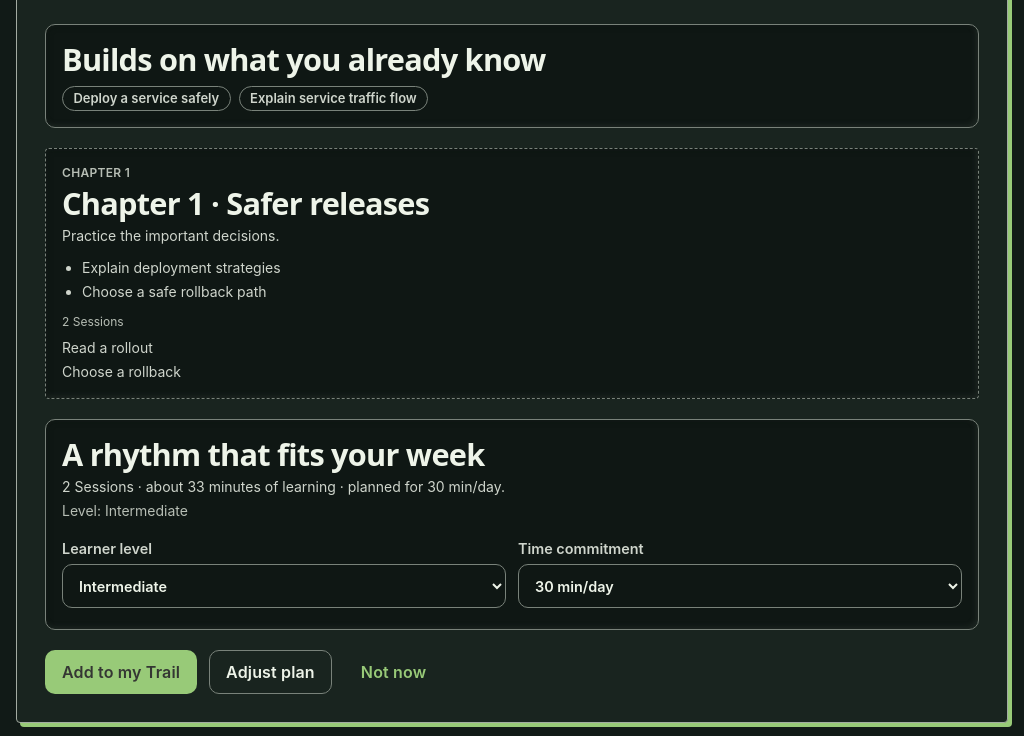
it: ContinuationFlow › requires regeneration when the learner changes the plan pace
(page scrolled)
Select "Advanced" in the dropdown labelled "Learner level" at (284, 586), box [62, 564, 506, 608]
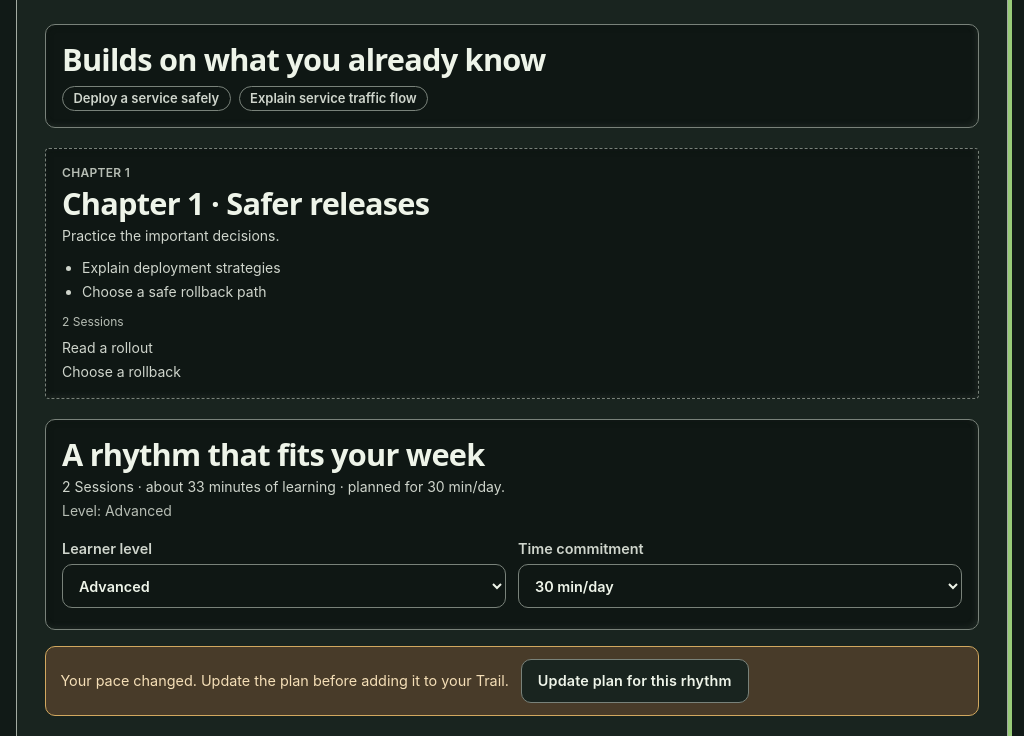
Expected: the message shows "Your pace changed", [60, 672, 509, 689]
Click the button "Update plan for this rhythm" at (635, 681), box [521, 659, 749, 703]
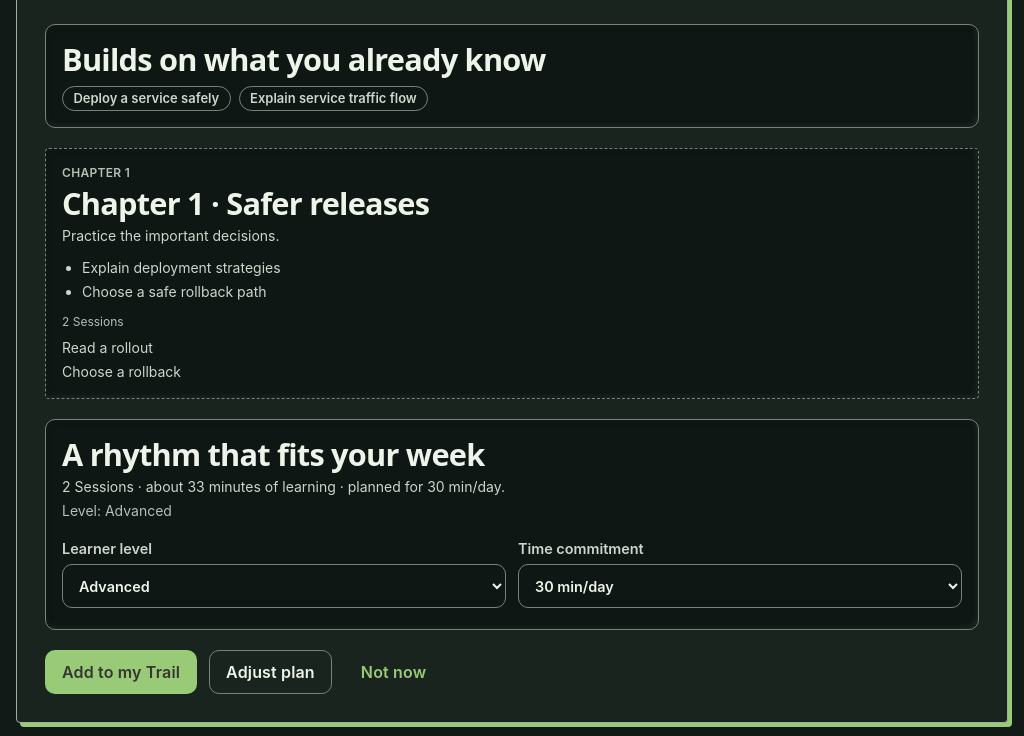
Expected: the button "Add to my Trail" is enabled, [45, 650, 197, 694]
